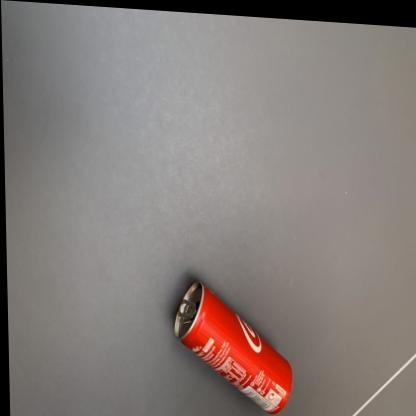trash: (174, 281, 291, 412)
